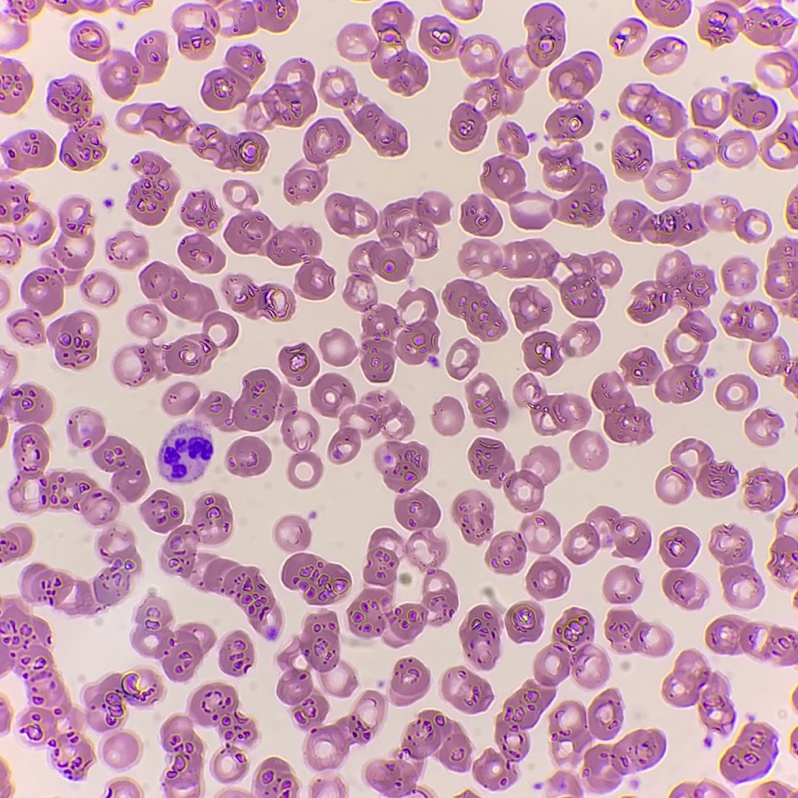RBC: (473, 608, 608, 789), (344, 192, 449, 382), (161, 493, 281, 638), (0, 384, 118, 524), (0, 599, 92, 778), (348, 493, 457, 643), (114, 262, 238, 385), (197, 369, 321, 488), (277, 611, 370, 769), (419, 16, 528, 150), (459, 239, 621, 317), (481, 144, 605, 228), (117, 103, 267, 170), (22, 530, 141, 614), (225, 209, 333, 299), (366, 710, 470, 797), (337, 2, 427, 94), (22, 198, 93, 314), (320, 69, 407, 155), (132, 597, 214, 680), (468, 438, 560, 511), (629, 252, 714, 322), (328, 392, 413, 462), (663, 651, 733, 733), (47, 76, 105, 170), (656, 311, 714, 402), (550, 689, 622, 762), (656, 439, 737, 503), (583, 729, 665, 792), (245, 59, 316, 129), (563, 506, 650, 563), (514, 374, 590, 434), (651, 129, 714, 200), (706, 615, 797, 664), (698, 0, 793, 45), (84, 674, 160, 730), (710, 526, 762, 607), (614, 200, 705, 245), (190, 683, 256, 744), (592, 374, 651, 442), (201, 46, 264, 109), (99, 42, 167, 99), (692, 83, 775, 128), (443, 280, 505, 340), (93, 436, 148, 501), (128, 152, 177, 224), (282, 553, 350, 604), (620, 84, 684, 136), (158, 422, 211, 482), (223, 275, 293, 320), (720, 723, 773, 781), (605, 610, 671, 655), (161, 716, 202, 788), (47, 311, 98, 368), (375, 441, 427, 491), (460, 605, 499, 669), (525, 4, 564, 66), (173, 6, 219, 58), (550, 52, 600, 99), (230, 0, 297, 35), (442, 667, 492, 713), (466, 374, 508, 428), (325, 193, 377, 235), (303, 118, 350, 163), (612, 126, 651, 179), (721, 302, 774, 341), (453, 491, 492, 543), (2, 132, 55, 169), (311, 373, 354, 416), (546, 102, 593, 141), (390, 658, 429, 705), (766, 239, 797, 298), (510, 287, 551, 330), (226, 436, 270, 476), (663, 569, 707, 609), (178, 234, 224, 272), (141, 491, 183, 532), (181, 191, 222, 232), (527, 557, 569, 597), (753, 354, 797, 392), (0, 60, 32, 112), (255, 758, 297, 797), (461, 195, 501, 235), (279, 344, 318, 385), (521, 512, 560, 553), (486, 532, 525, 573), (523, 332, 561, 374), (660, 527, 699, 567), (747, 468, 784, 510), (763, 123, 797, 168), (106, 231, 147, 268), (219, 631, 253, 675), (70, 22, 108, 60), (506, 602, 543, 641), (645, 37, 686, 72), (570, 431, 607, 469), (603, 566, 641, 603), (621, 348, 660, 384), (716, 375, 756, 410), (284, 170, 326, 203), (636, 0, 689, 26), (769, 535, 797, 583), (718, 131, 755, 167), (67, 410, 104, 446), (725, 210, 769, 240), (320, 329, 356, 365), (745, 409, 781, 445), (610, 19, 646, 54), (0, 183, 33, 221), (128, 304, 166, 337), (446, 339, 478, 378), (213, 746, 247, 782), (103, 732, 137, 767), (81, 272, 118, 303), (432, 397, 463, 434), (722, 258, 755, 292), (163, 382, 198, 414), (276, 516, 310, 548), (0, 527, 32, 561), (9, 311, 43, 342), (767, 46, 797, 80), (498, 122, 528, 156), (224, 180, 254, 206), (572, 322, 599, 350), (550, 771, 580, 794), (1, 233, 20, 263), (11, 0, 41, 17), (455, 0, 481, 19), (36, 216, 52, 242), (114, 781, 139, 797), (671, 783, 699, 797), (761, 782, 786, 797), (11, 25, 28, 47), (787, 196, 797, 228), (366, 691, 384, 708), (0, 349, 16, 368), (0, 765, 9, 795), (62, 0, 82, 12), (0, 417, 7, 443), (785, 302, 797, 317), (0, 712, 10, 730), (92, 2, 104, 11), (704, 206, 712, 219), (790, 470, 797, 484), (443, 0, 453, 9), (776, 341, 785, 351), (566, 347, 575, 356), (149, 675, 157, 685), (139, 0, 151, 6), (791, 731, 797, 742), (314, 782, 322, 790), (462, 792, 473, 797), (793, 693, 797, 702), (790, 793, 797, 797)
